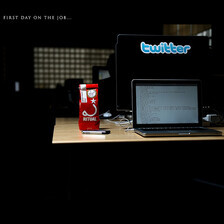laptop: (127, 78, 224, 148)
